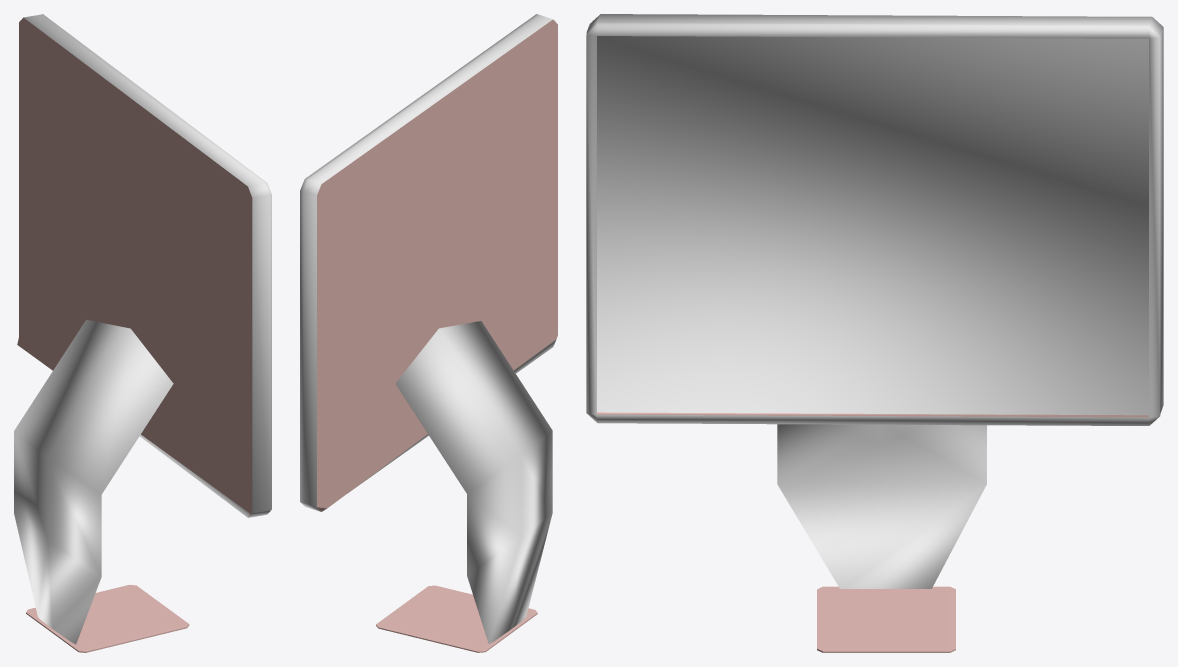
The model's file is Computer.fbx.
3 views of the same model, side by side, from view 1: azimuth 30°, elevation 25°; view 2: azimuth 150°, elevation 25°; view 3: azimuth 270°, elevation 25° (orthographic). The views are drawn at different scales.
Parts seen in each view (by area): view 1: Cube; view 2: Cube; view 3: Cube.
Boxes of the visible parts, bbox=[...] form: Cube: bbox=[14, 14, 271, 652]; Cube: bbox=[300, 14, 557, 652]; Cube: bbox=[586, 14, 1163, 652].
Size of the model in its own units: 340 by 1417 by 1197.
